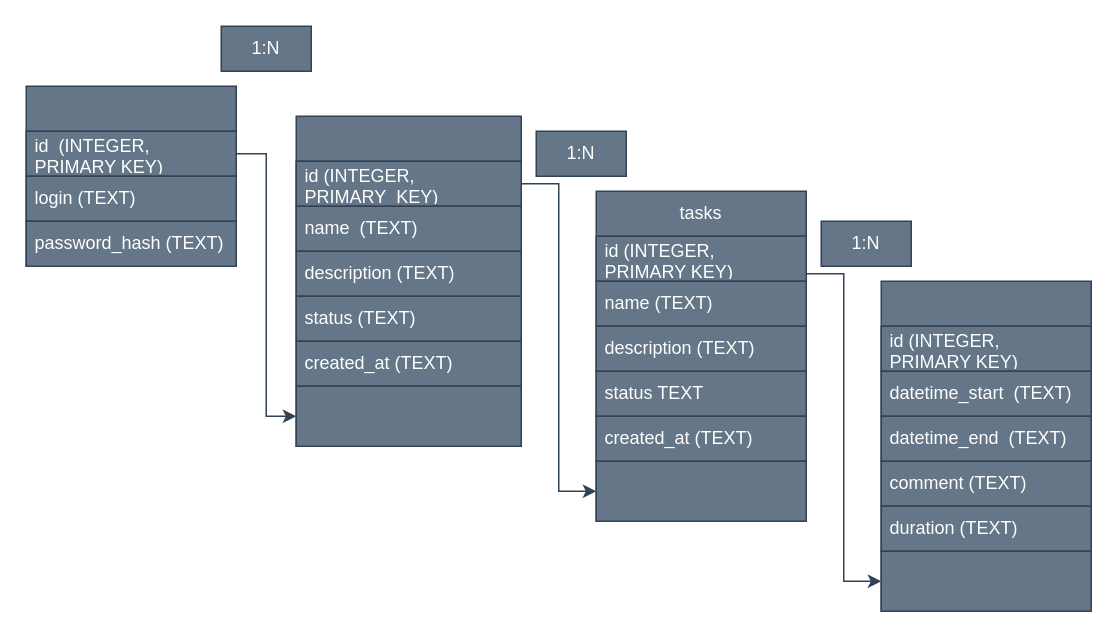
The diagram is 1118 pixels wide and 638 high, and some of its shapes have lost their labels. Each missing label, with the box of its shape:
clients: (25, 85, 236, 266)
project_id (INTEGER, FOREIGN KEY): (595, 460, 806, 521)
projects: (295, 115, 521, 446)
task_id (INTEGER, FOREIGN KEY): (880, 550, 1091, 611)
time_logs: (880, 280, 1091, 611)
user_id (INTEGER, FOREIGN KEY): (295, 385, 521, 446)
